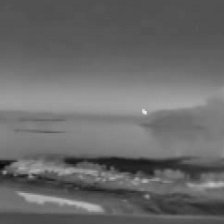Target: (142, 109, 148, 115)
